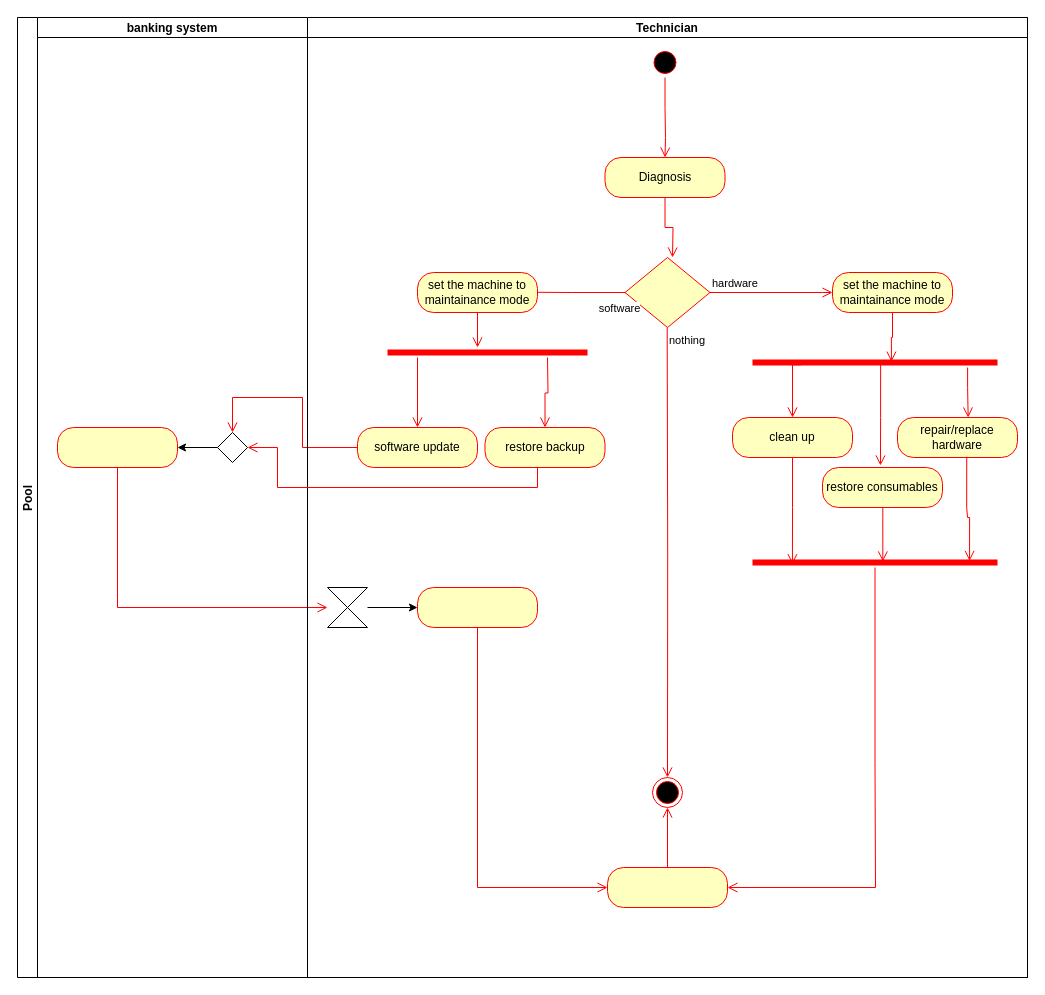
This 1045x995 diagram has some shape labels left out. The centre of each missing label's shape, as x and y in pixels:
fetch data from servers: (117,447)
software installation: (477,607)
Turn off maintainance mode: (667,887)
where is the issue?: (667,292)
